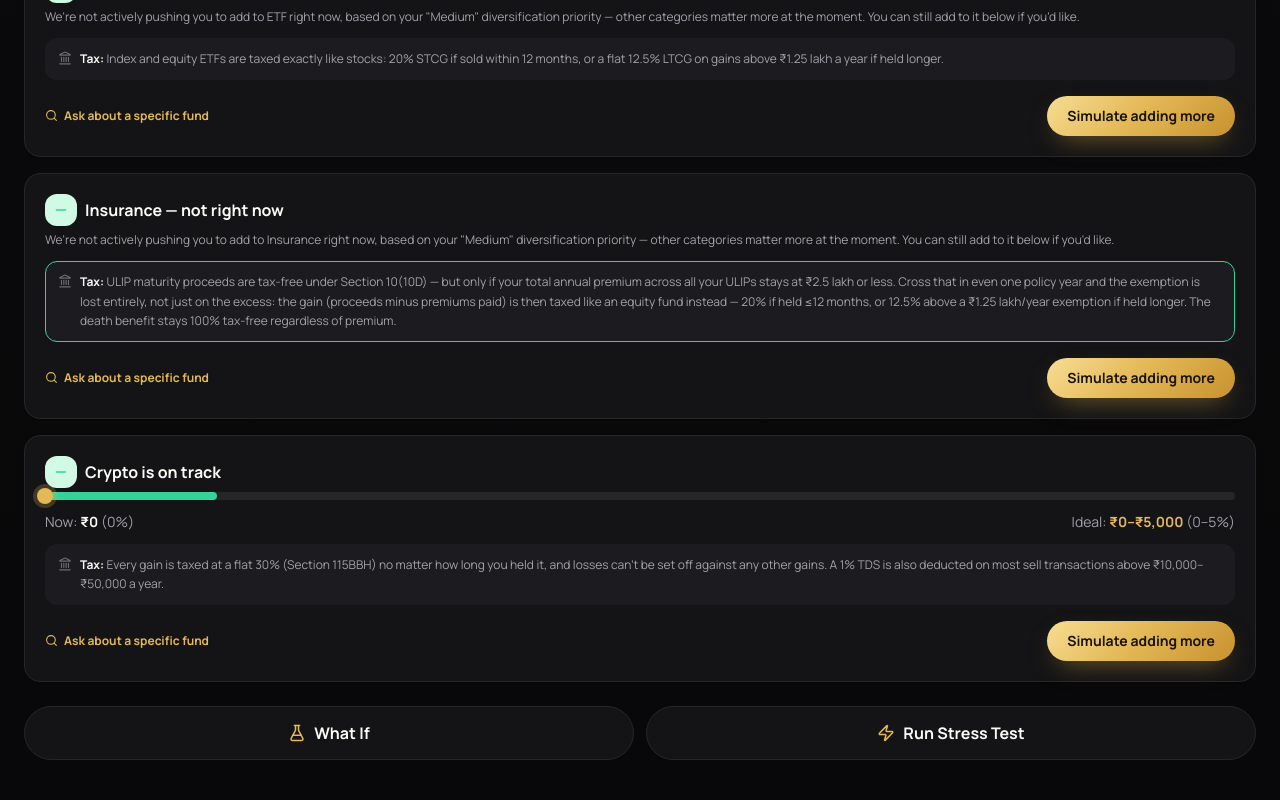
it: Suggestions — What If / Run Stress Test button split › opens/closes the two sheets independently
(page scrolled)
Click the button with test id "what-if-btn": (329, 732) [24,706,634,760]
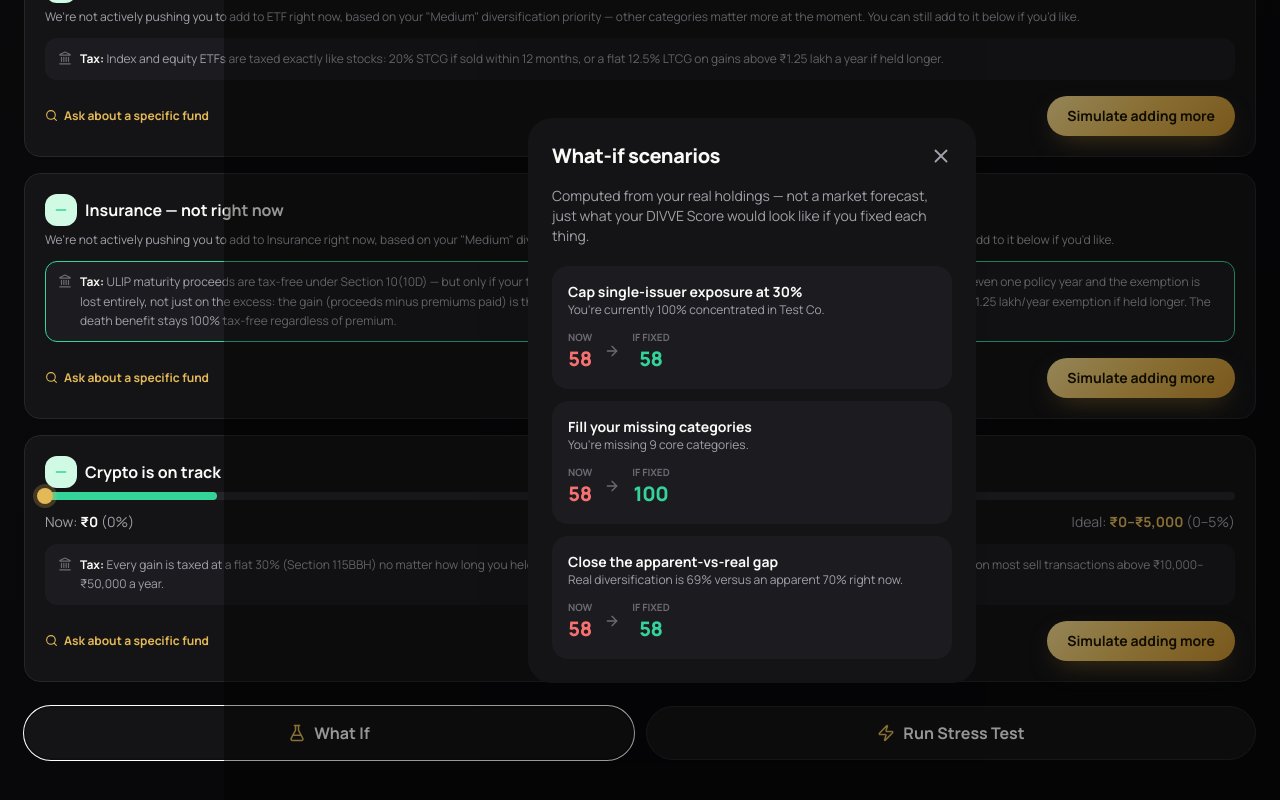
Check: the element with test id "what-if-sheet" is shown, box [528,118,976,682]
Click the button with test id "what-if-close-btn": (941, 156) [930,144,952,166]
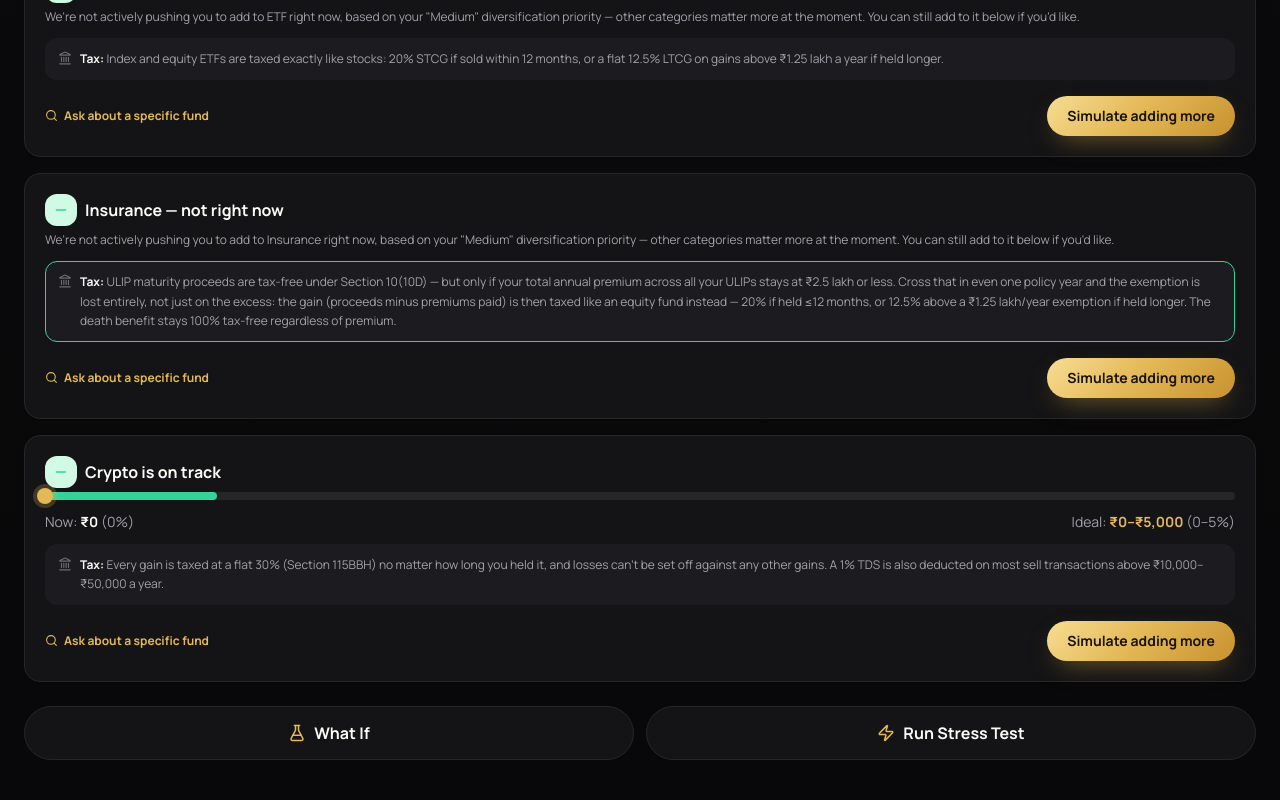
Check: the element with test id "what-if-sheet" is gone
Click the button with test id "stress-test-btn": (951, 732) [646,706,1256,760]
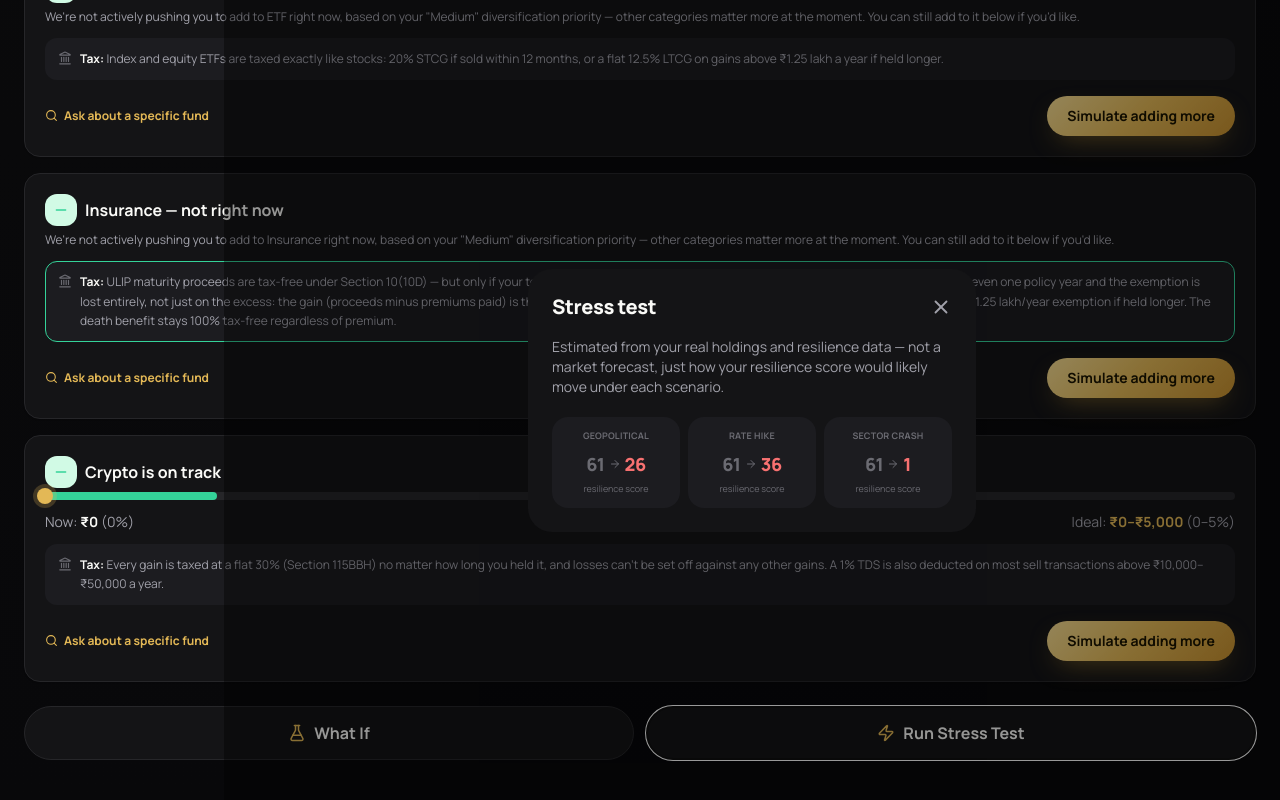
Check: the element with test id "market-stress-sheet" is shown, box [528,268,976,532]
